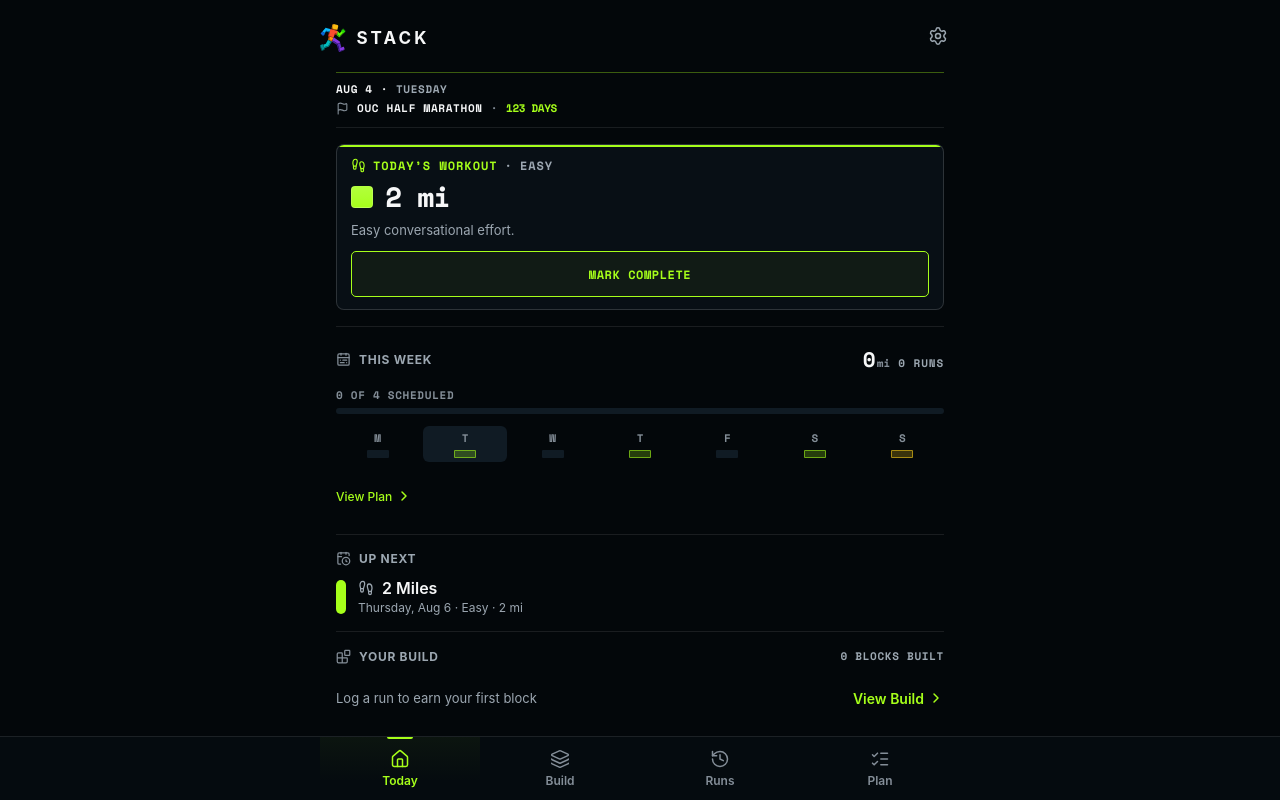
Scenario: App › switches to the Build structure and the Plan schedule on tap
Click the button "Build".
click(560, 768)  # box top-left (480, 737), bottom-right (640, 799)
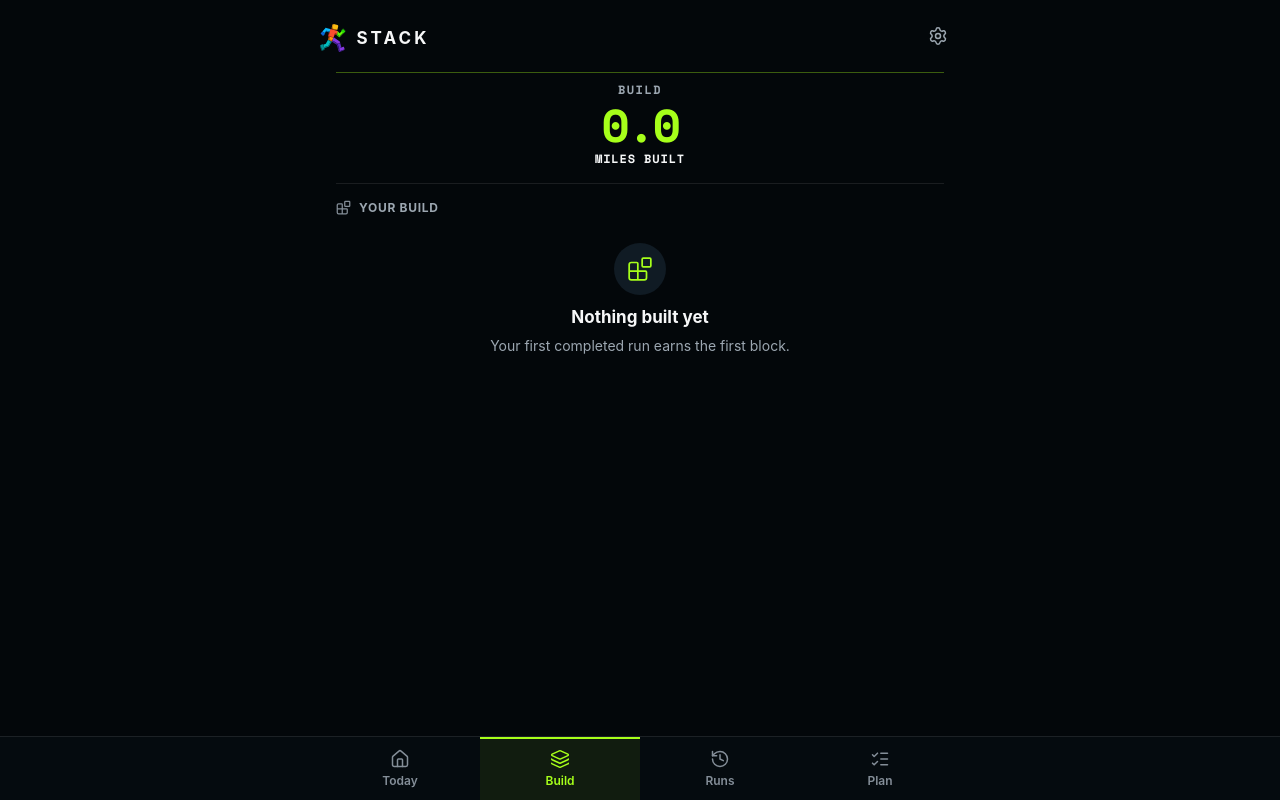
Now the heading "0.0 miles built" is shown, box top-left (595, 102), bottom-right (685, 167)
Now the text "Nothing built yet" is shown, box top-left (571, 307), bottom-right (709, 327)
Click the button "Plan".
click(880, 768)  # box top-left (800, 737), bottom-right (960, 799)
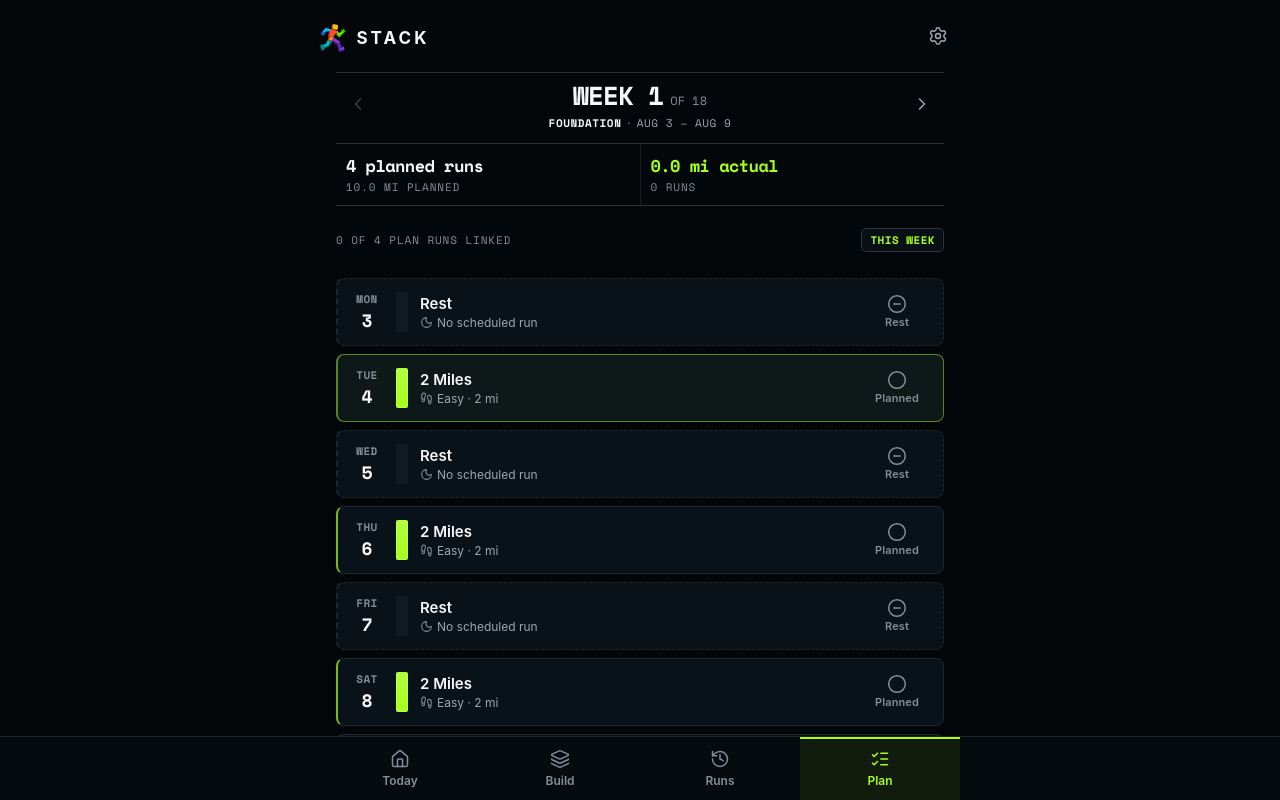
Now the heading reads "Week 1 of 18", box top-left (573, 76), bottom-right (707, 114)
Now the number of list items is 7
